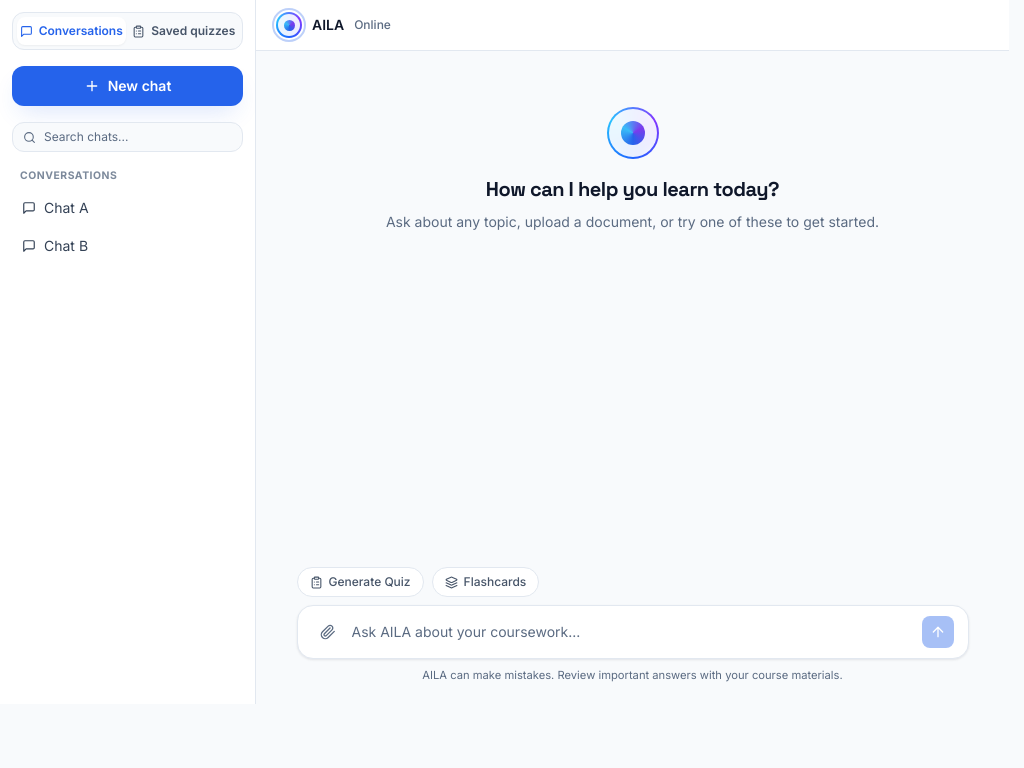
Test: AssistantPage — conversation-scoped thinking / message state › Scenario A: sending in a chat shows the thinking indicator in that chat
The image size is (1024, 768).
Click the button "Chat A" at point(128, 208), box [16, 192, 241, 224]
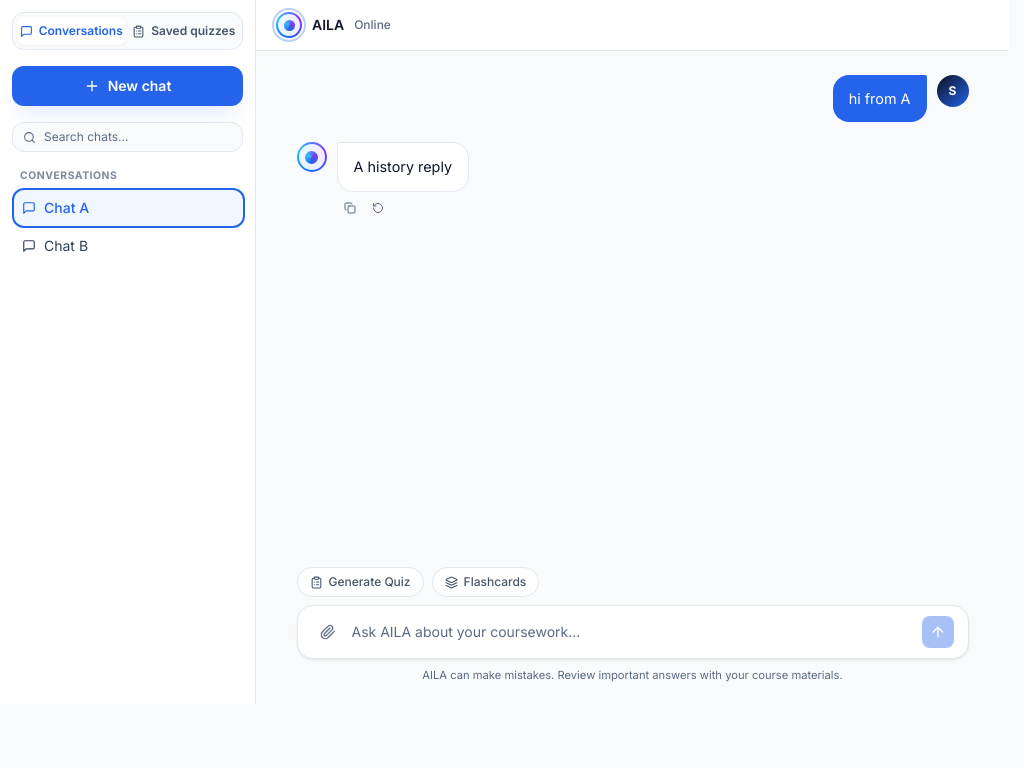
Now the text "A history reply" is shown, box [354, 155, 452, 179]
Click the text box with placeholder "Ask AILA about your coursework..." at point(632, 632), box [352, 616, 914, 648]
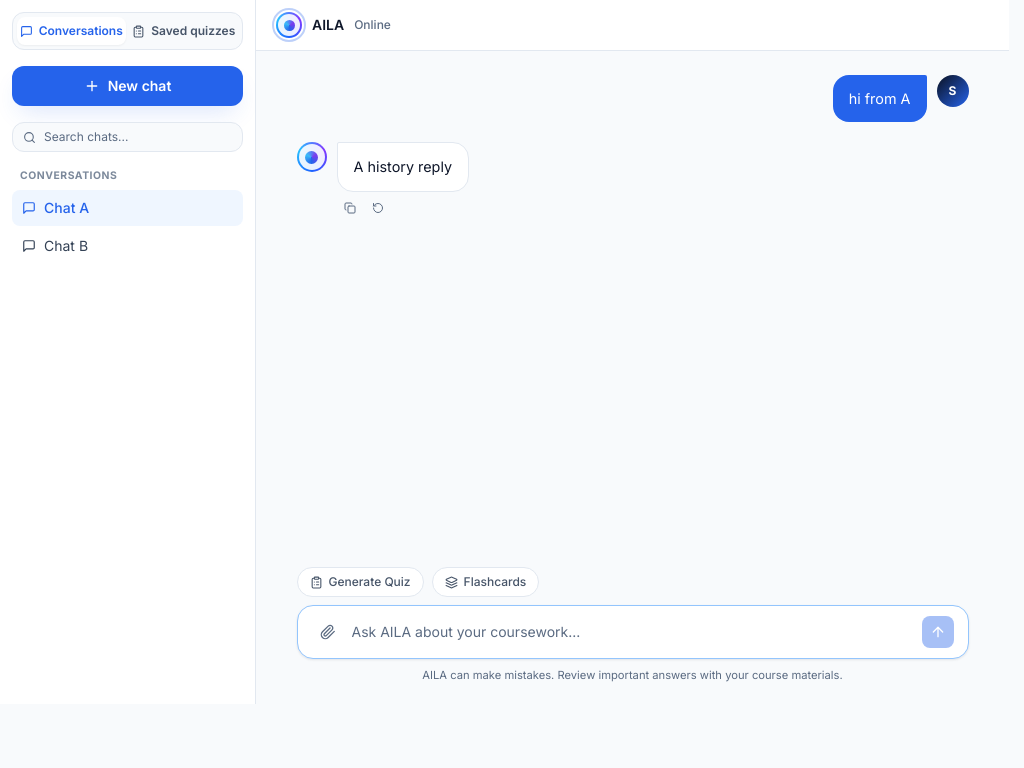
Type keys "a question in A"
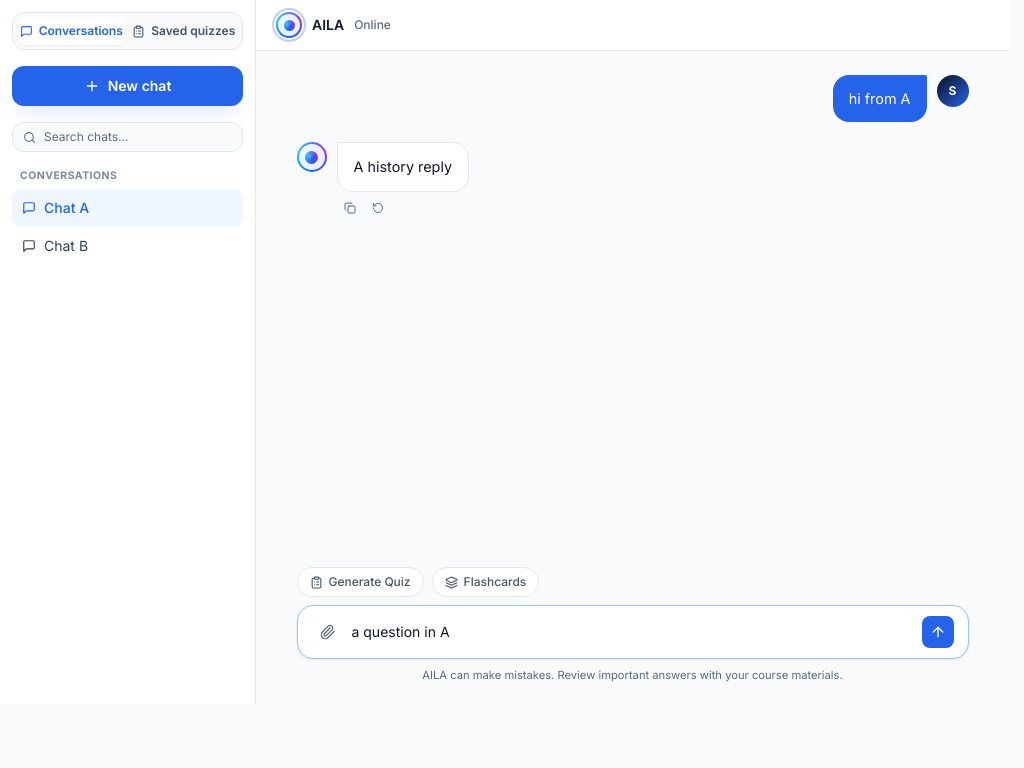
Click the button named "Send message" at point(938, 632), box [922, 616, 954, 648]
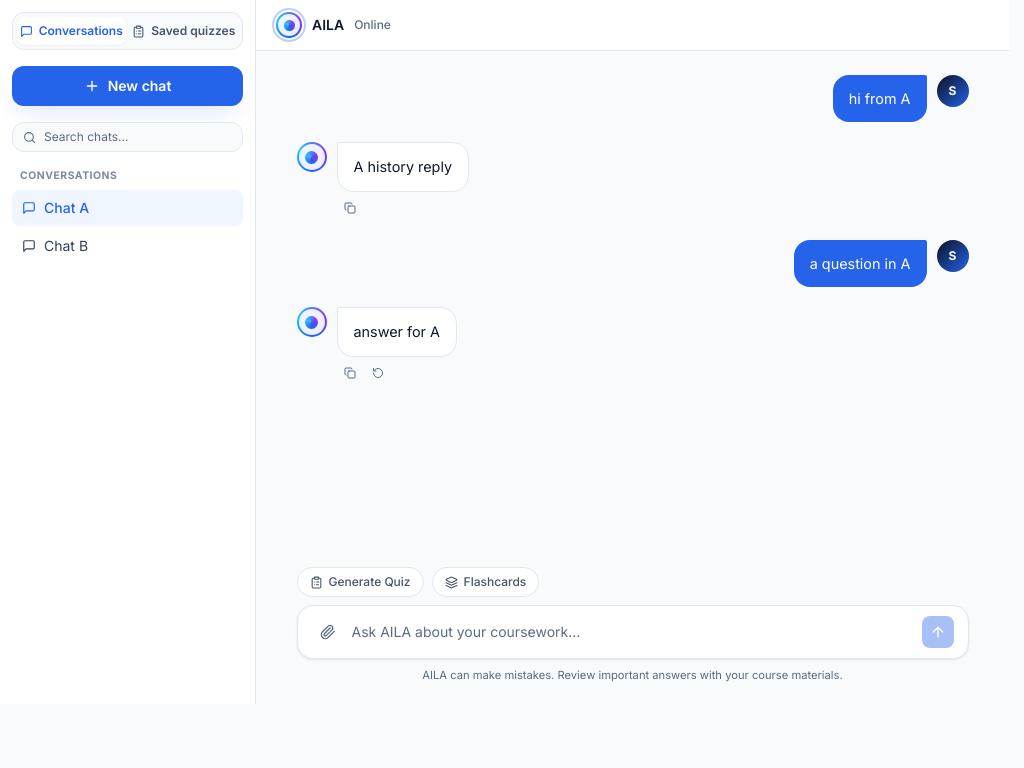
Now the text "answer for A" is shown, box [354, 320, 440, 344]
